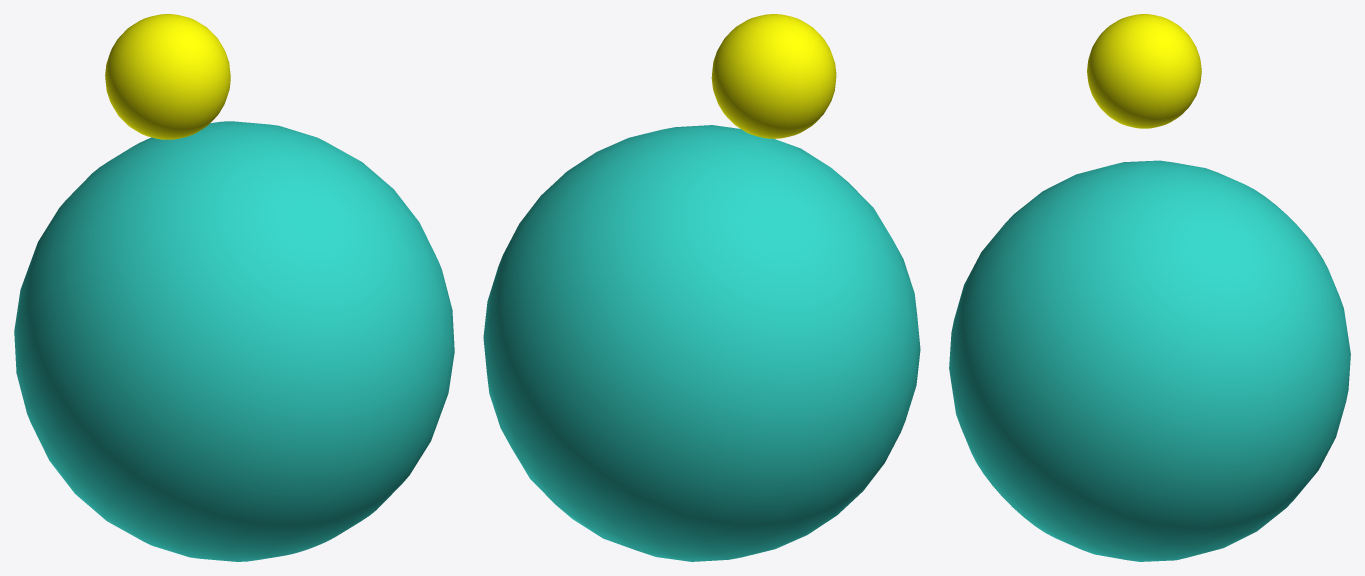
The model's file is Hydrogen_atom.fbx.
The picture shows the model from 3 angles, left to right: view 1: azimuth 30°, elevation 25°; view 2: azimuth 150°, elevation 25°; view 3: azimuth 270°, elevation 25°; orthographic projection. The views are drawn at different scales.
Parts seen in each view (by area): view 1: Sphere.002, Sphere.008; view 2: Sphere.002, Sphere.008; view 3: Sphere.002, Sphere.008.
Part boxes in pixels (<box>): Sphere.002: <box>14,121,454,561</box>; Sphere.008: <box>105,14,230,139</box>; Sphere.002: <box>483,125,920,561</box>; Sphere.008: <box>711,14,836,138</box>; Sphere.002: <box>949,160,1350,561</box>; Sphere.008: <box>1087,14,1201,128</box>.
Size of the model in its own units: 140 by 189 by 140.
